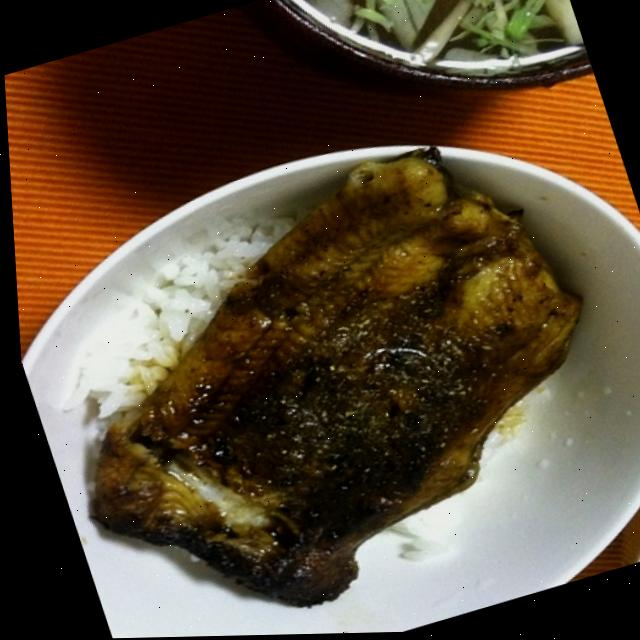熟制海鲜: (4, 68, 640, 640)
